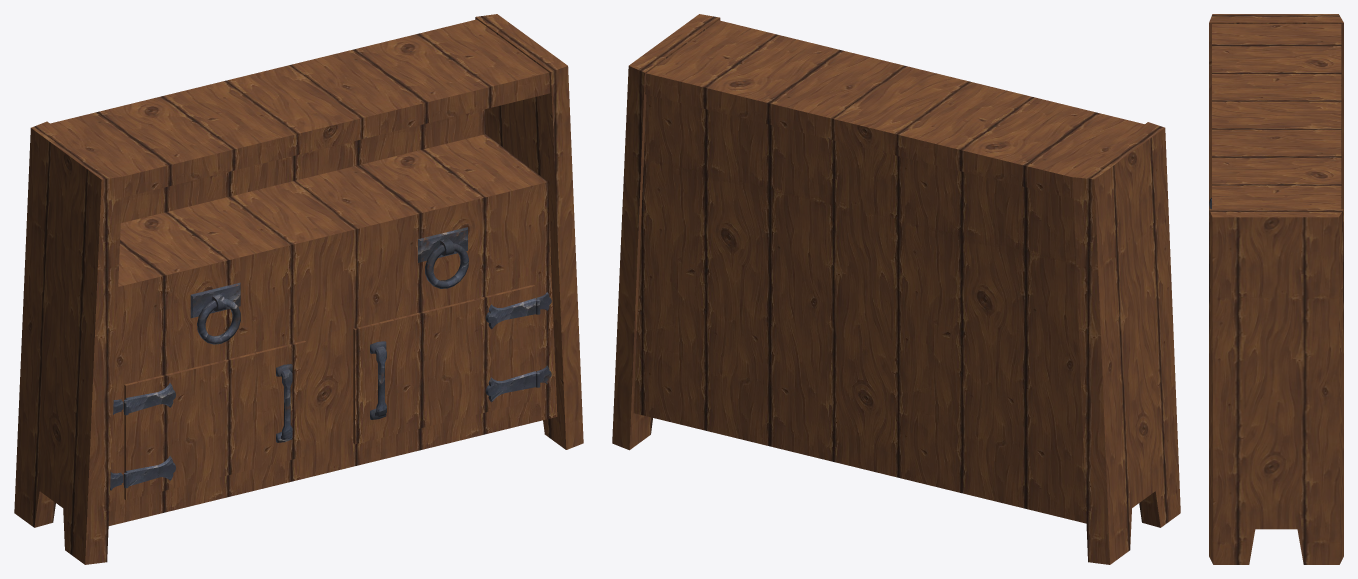
The model's file is furn_cabinet.glb.
3 views of the same model, side by side, from view 1: azimuth 30°, elevation 25°; view 2: azimuth 150°, elevation 25°; view 3: azimuth 270°, elevation 25° (orthographic). The views are drawn at different scales.
Parts seen in each view (by area): view 1: model; view 2: model; view 3: model.
Part boxes in pixels (x1,y1,x2,y2): model: [14, 14, 583, 564]; model: [612, 14, 1180, 564]; model: [1209, 14, 1343, 564].
Bounding box in the file's own units: 1.36 × 0.9974 × 0.3571.
2 materials, 2 textured.
